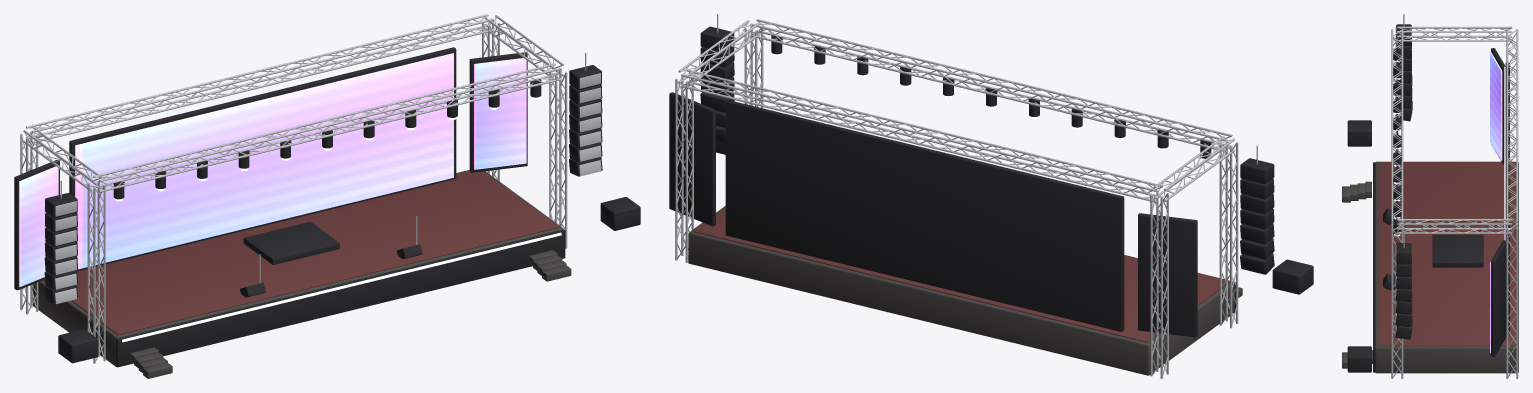
Rendered from stage.glb.
3 renders of one model, left to right at view 1: azimuth 30°, elevation 25°; view 2: azimuth 150°, elevation 25°; view 3: azimuth 270°, elevation 25°, orthographic. The views are drawn at different scales.
Visible parts, largest first — view 1: stage; view 2: stage; view 3: stage.
Boxes of the visible parts, x1,y1,x2,y2 form: stage: [14, 14, 640, 378]; stage: [669, 14, 1313, 378]; stage: [1342, 14, 1518, 378].
Bounding box in the file's own units: 508 × 157 × 160.
